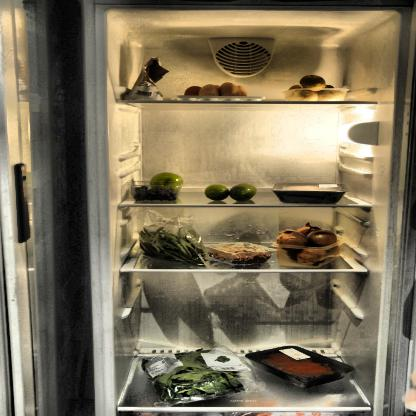apple: (150, 171, 181, 192)
beef: (256, 346, 346, 380)
blueberries: (130, 184, 184, 202)
eggs: (184, 82, 252, 102)
green_beans: (136, 226, 210, 269)
lime: (204, 182, 258, 204)
onion: (276, 221, 342, 267)
potato: (282, 74, 352, 102)
shrimp: (207, 241, 272, 264)
spinach: (140, 349, 260, 406)
